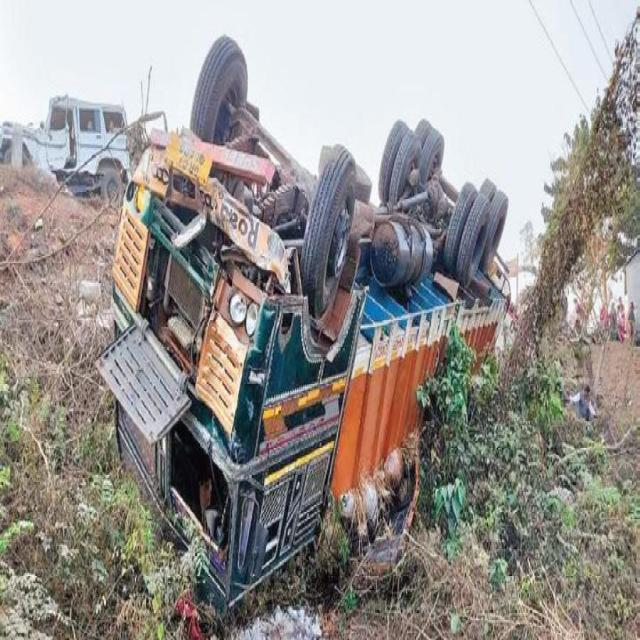accident: (99, 38, 509, 609), (0, 95, 130, 200)
